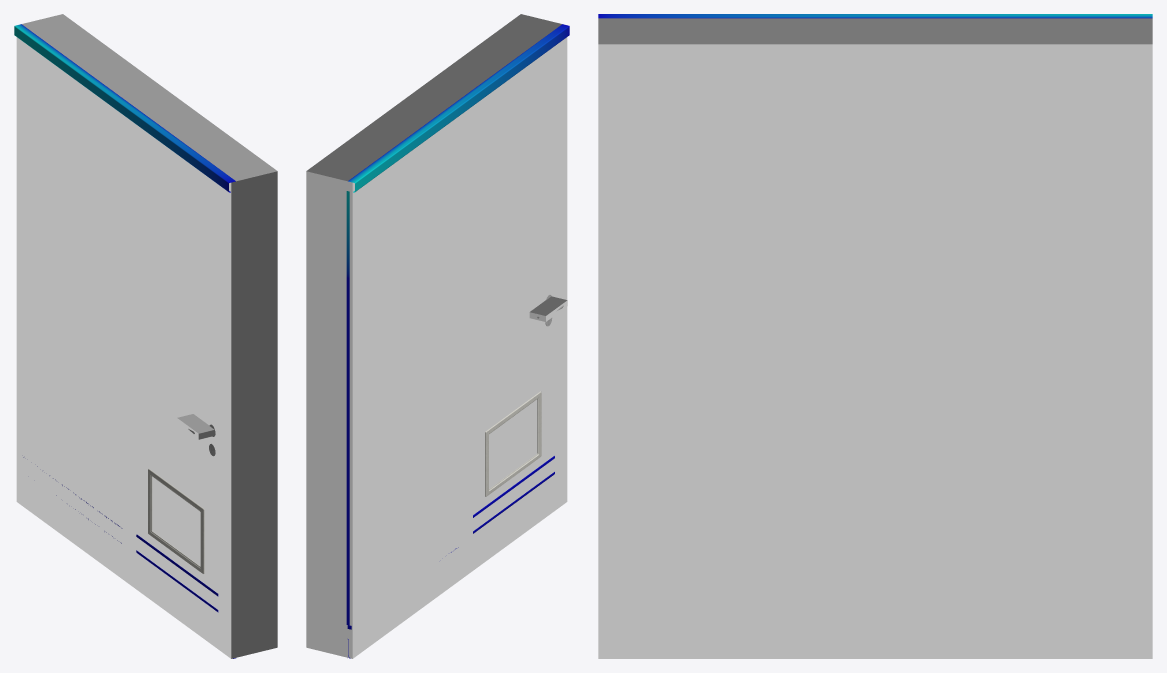
3 renders of one model, left to right at view 1: azimuth 30°, elevation 25°; view 2: azimuth 150°, elevation 25°; view 3: azimuth 270°, elevation 25°, orthographic. The views are drawn at different scales.
Visible parts, largest first — view 1: SM_Wall_Door_200x_01a_ConvexHulls, SM_Wall_Door_200x_01a; view 2: SM_Wall_Door_200x_01a_ConvexHulls, SM_Wall_Door_200x_01a; view 3: SM_Wall_Door_200x_01a_ConvexHulls, SM_Wall_Door_200x_01a.
Boxes of the visible parts, box(x1,y1,x2,y2) form: SM_Wall_Door_200x_01a_ConvexHulls: box(16, 14, 277, 658); SM_Wall_Door_200x_01a: box(14, 24, 235, 658); SM_Wall_Door_200x_01a_ConvexHulls: box(306, 14, 567, 658); SM_Wall_Door_200x_01a: box(346, 24, 569, 658); SM_Wall_Door_200x_01a_ConvexHulls: box(598, 18, 1152, 658); SM_Wall_Door_200x_01a: box(598, 14, 1152, 18).
Size of the model in its own units: 33.97 by 200 by 245.
